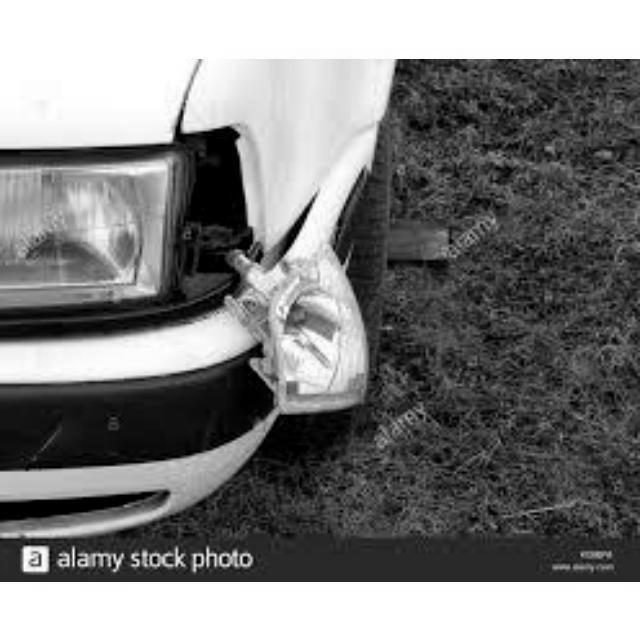Headlight-damage: (98, 125, 272, 304), (253, 242, 382, 418)
